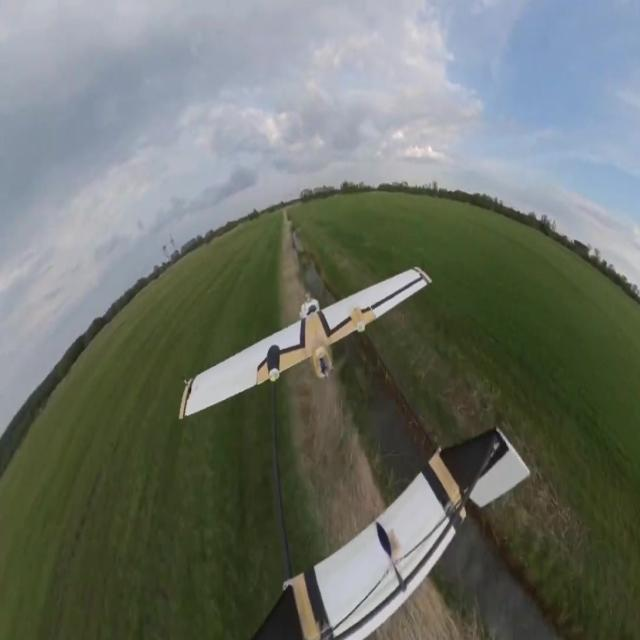iha: (247, 423, 532, 640), (177, 261, 434, 425)
